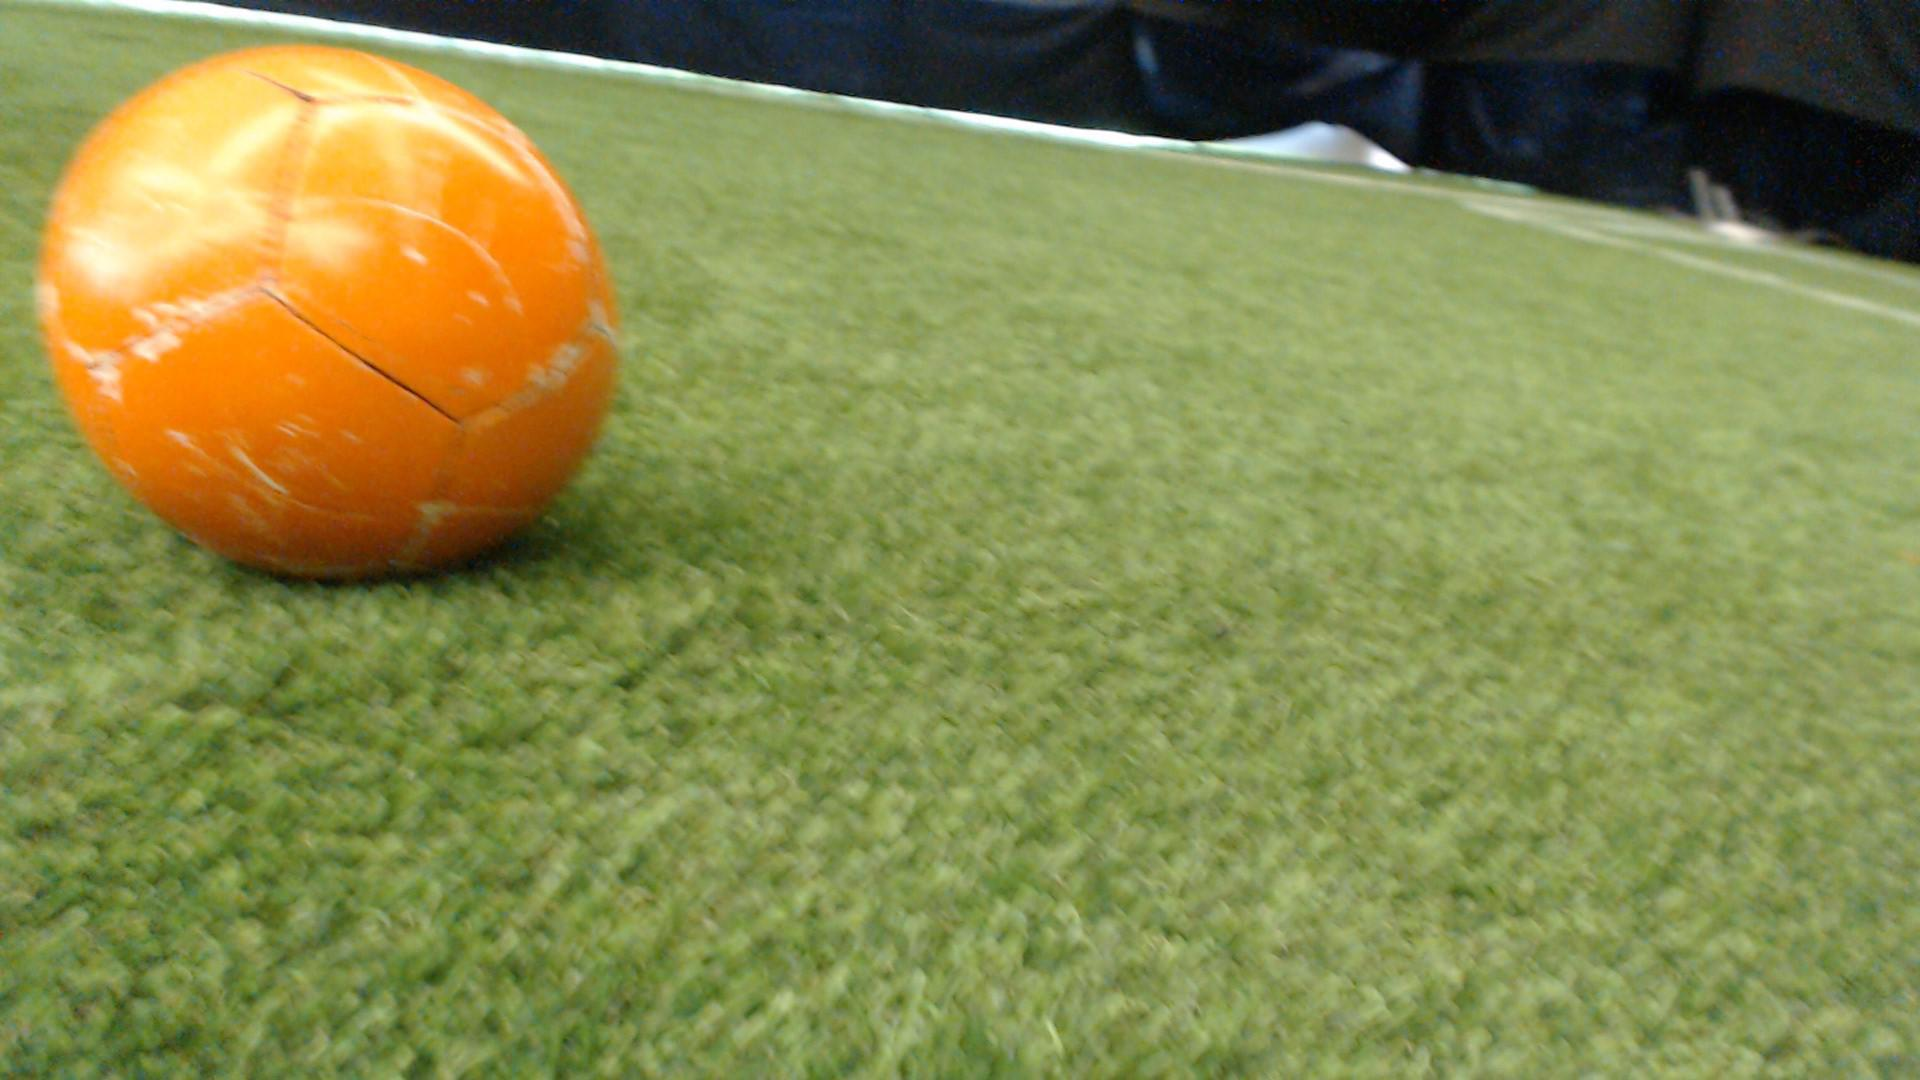bola: (34, 29, 658, 584)
